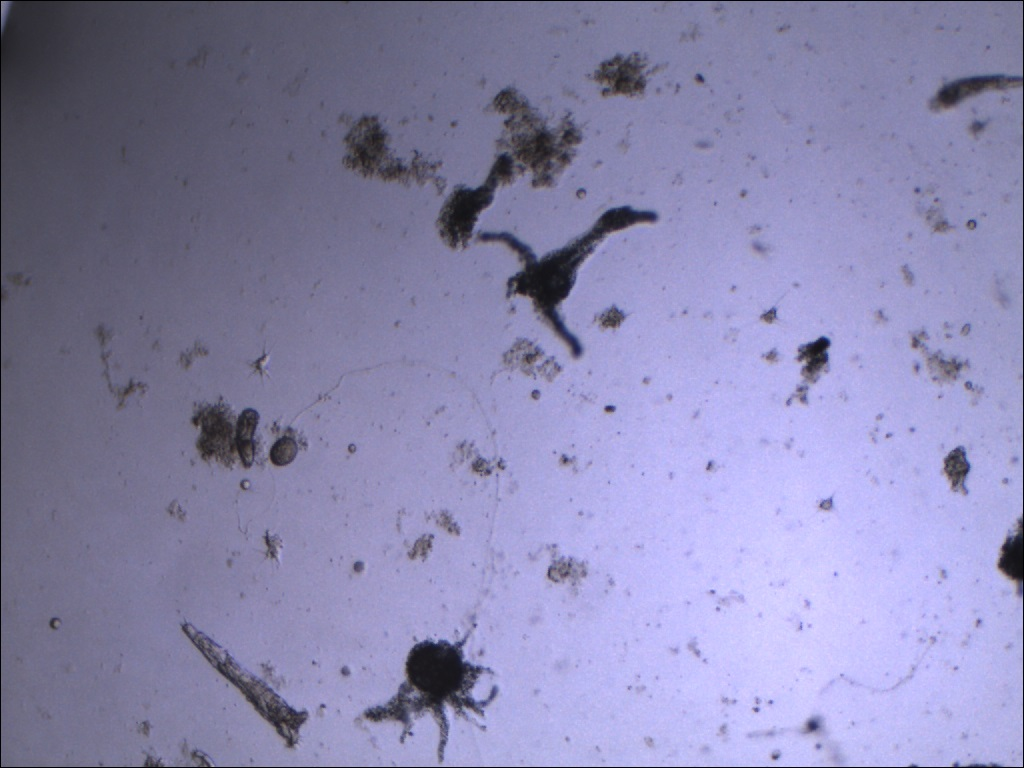amoeba: (472, 203, 665, 361), (362, 622, 511, 768), (429, 151, 525, 254)
